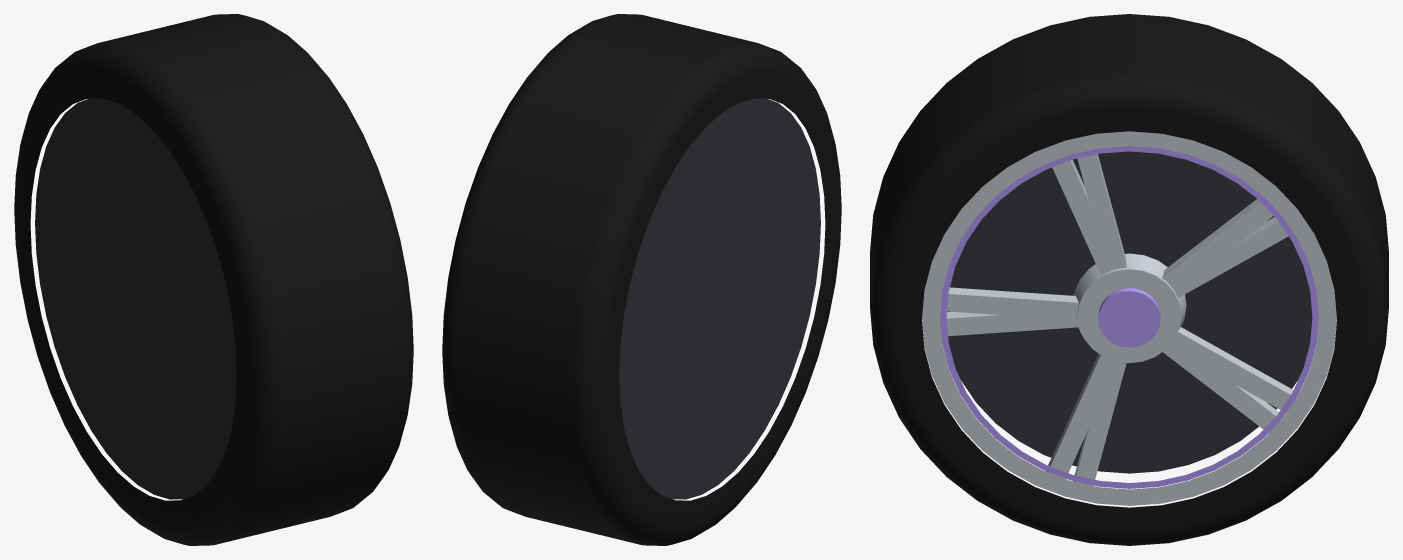
The model's file is wheel.glb.
3 views of the same model, side by side, from view 1: azimuth 30°, elevation 25°; view 2: azimuth 150°, elevation 25°; view 3: azimuth 270°, elevation 25° (orthographic).
Parts seen in each view (by area): view 1: wheel; view 2: wheel; view 3: wheel.
Boxes of the visible parts, left/top/right/bottom form: wheel: left=14, top=14, right=413, bottom=545; wheel: left=442, top=14, right=841, bottom=545; wheel: left=870, top=14, right=1388, bottom=545.
Size of the model in its own units: 0.72 by 2 by 2.
Materials: 1 (1 with a texture image).
